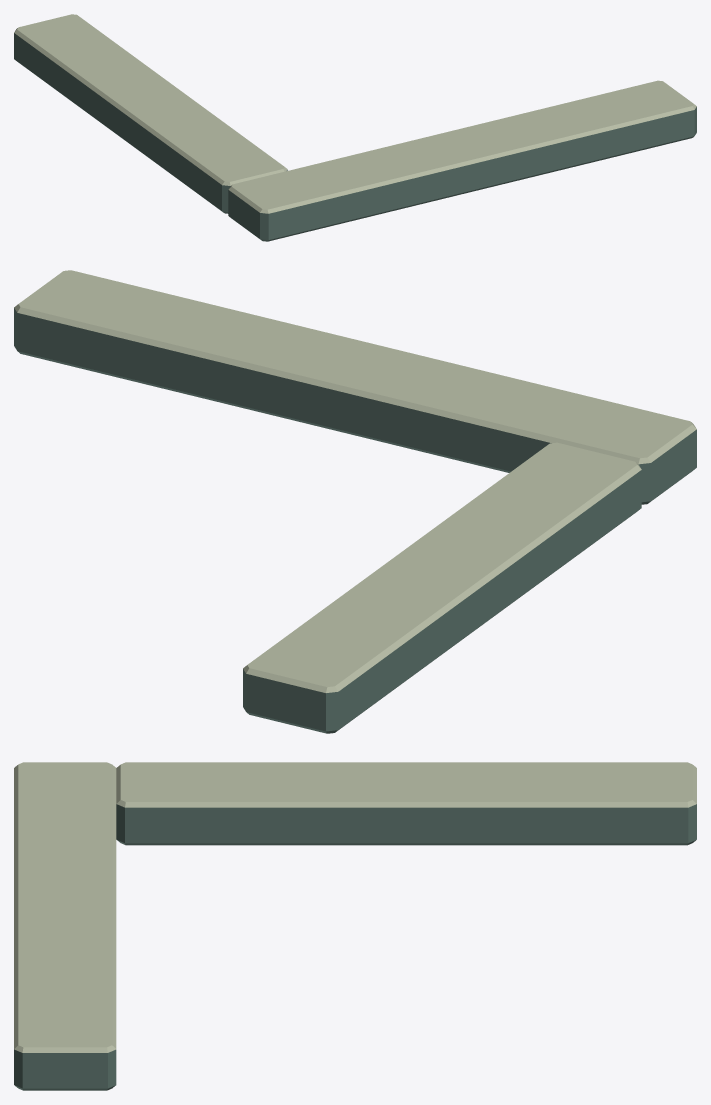
File: floor-border-corner.glb
3 renders of one model, top to bottom at view 1: azimuth 30°, elevation 25°; view 2: azimuth 150°, elevation 25°; view 3: azimuth 270°, elevation 25°, orthographic. The views are drawn at different scales.
Parts seen in each view (by area): view 1: floor-border-corner__body; view 2: floor-border-corner__body; view 3: floor-border-corner__body.
Part boxes in pixels (left/top/right/bottom): floor-border-corner__body: left=14, top=14, right=696, bottom=241; floor-border-corner__body: left=14, top=270, right=696, bottom=733; floor-border-corner__body: left=14, top=762, right=696, bottom=1090.
Size of the model in its own units: 2 by 0.14 by 2.
